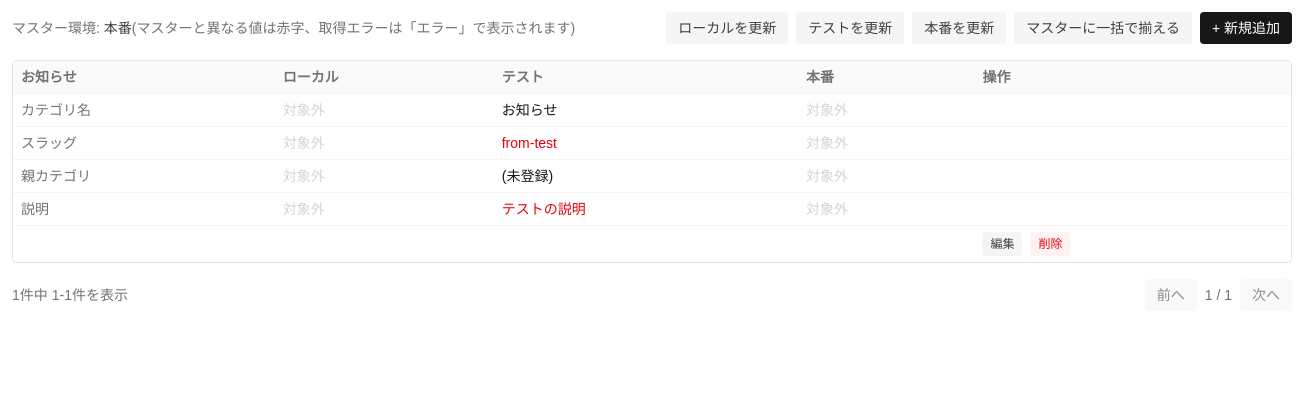
Scenario: TermComparisonTable › マスターに値が無い行の編集フォームは、ローカル→テスト→本番の順で最初にある値を初期値にする
Click the button "編集": (1002, 244) [982,232,1022,256]
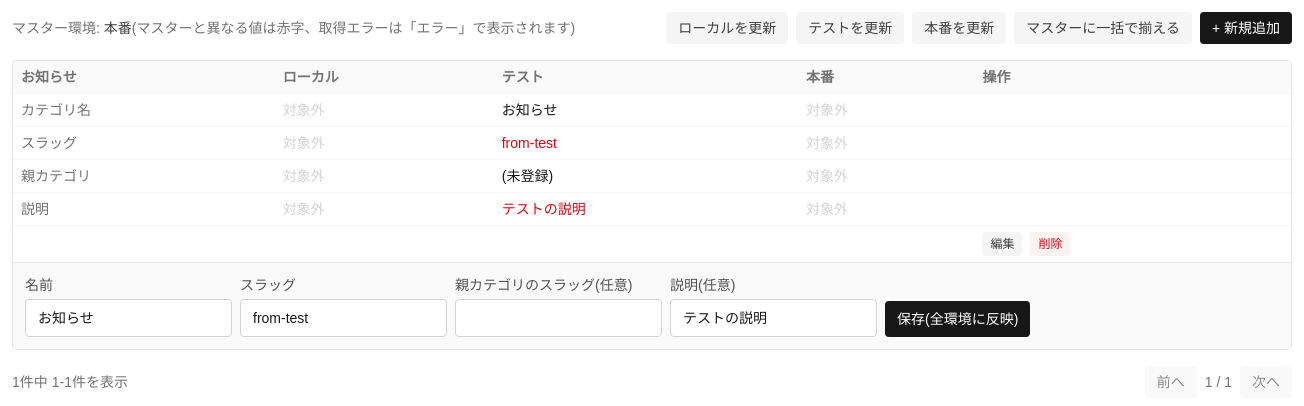
Result: the field labelled "スラッグ" holds "from-test" at [240,299,447,337]
Result: the field labelled "説明(任意)" holds "テストの説明" at [670,299,877,337]
